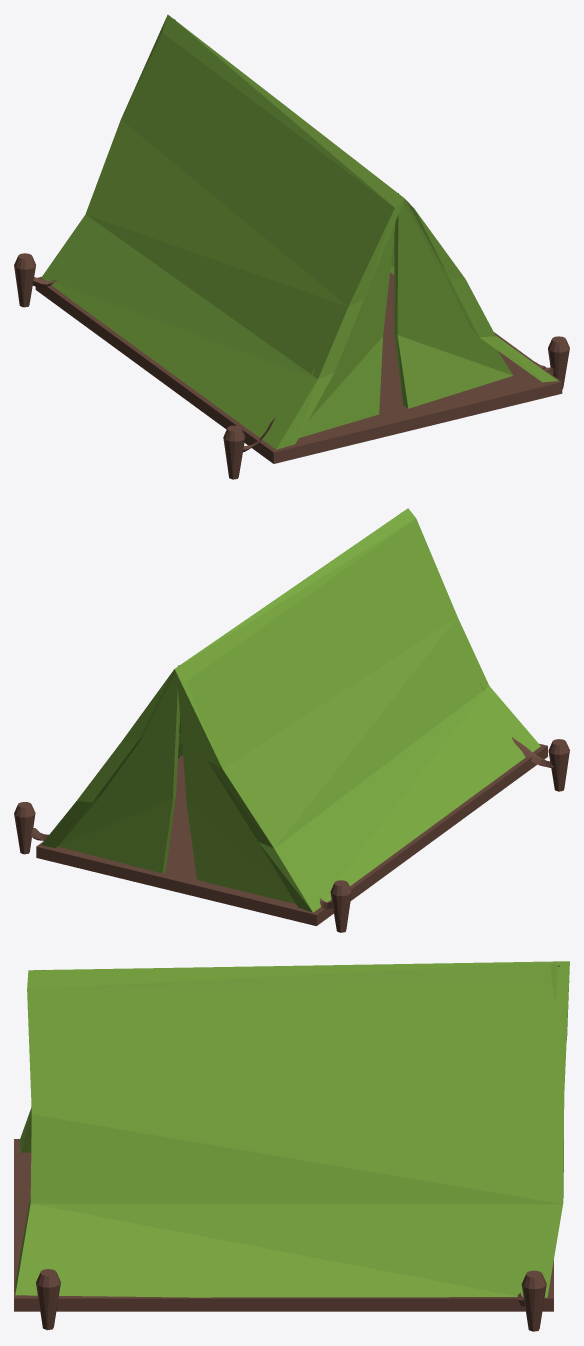
Rendered from tent.gltf.
3 views of the same model, one above another, from view 1: azimuth 30°, elevation 25°; view 2: azimuth 150°, elevation 25°; view 3: azimuth 270°, elevation 25° (orthographic). The views are drawn at different scales.
Parts seen in each view (by area): view 1: node_MeshObject538716224-PolyPaper20; view 2: node_MeshObject538716224-PolyPaper20; view 3: node_MeshObject538716224-PolyPaper20.
Boxes of the visible parts, left/top/right/bottom form: node_MeshObject538716224-PolyPaper20: left=14, top=14, right=569, bottom=479; node_MeshObject538716224-PolyPaper20: left=14, top=508, right=569, bottom=932; node_MeshObject538716224-PolyPaper20: left=14, top=961, right=569, bottom=1331.
Size of the model in its own units: 1.29 by 0.8807 by 1.54.
